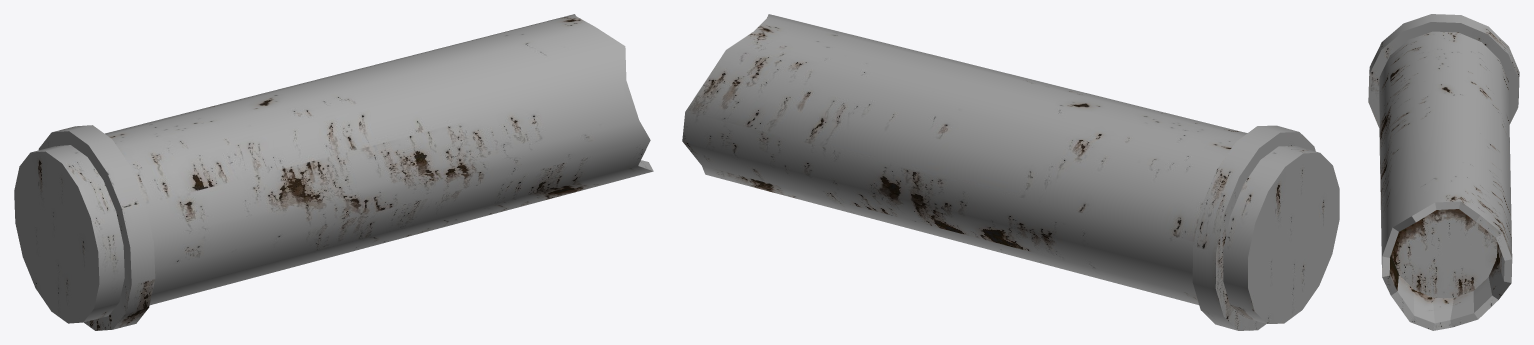
The model's file is B_BrokenPipe.fbx.
3 renders of one model, left to right at view 1: azimuth 30°, elevation 25°; view 2: azimuth 150°, elevation 25°; view 3: azimuth 270°, elevation 25°, orthographic. The views are drawn at different scales.
Visible parts, largest first — view 1: B_BrokenPipe; view 2: B_BrokenPipe; view 3: B_BrokenPipe.
Boxes of the visible parts, left/top/right/bottom form: B_BrokenPipe: left=14, top=14, right=653, bottom=330; B_BrokenPipe: left=682, top=14, right=1339, bottom=330; B_BrokenPipe: left=1368, top=14, right=1519, bottom=330.
Bounding box in the file's own units: 7.43 × 2.3 × 2.3.
1 material, 1 textured.
